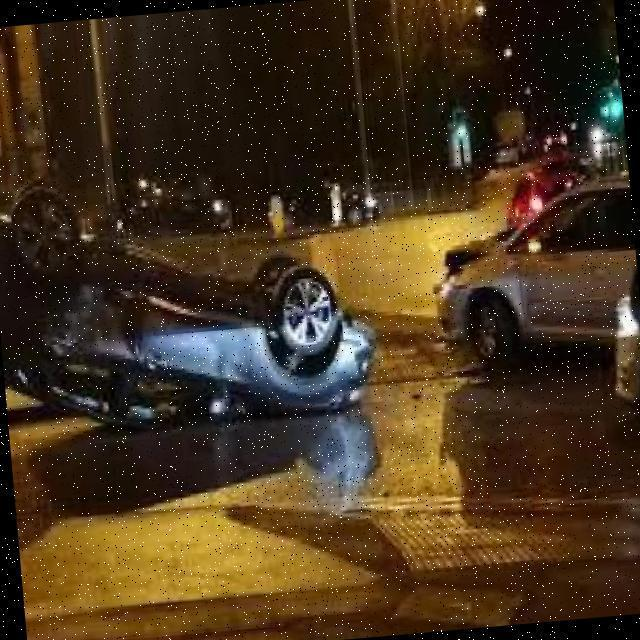accident: (0, 149, 385, 444)
